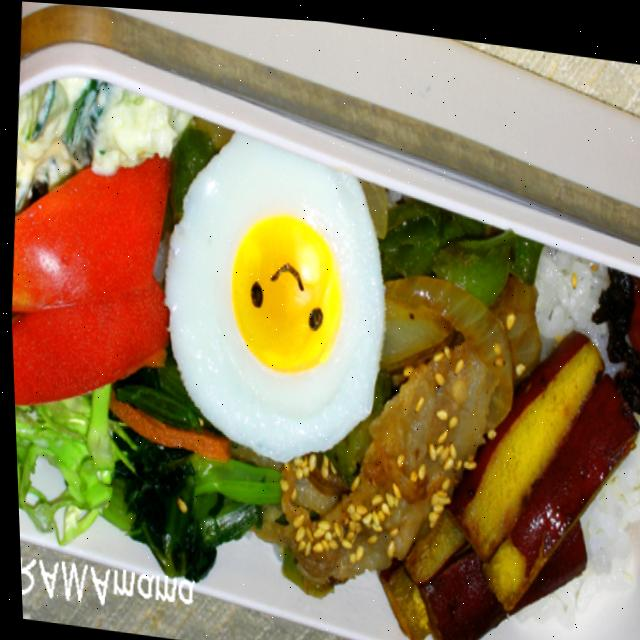鸡蛋料理: (158, 119, 388, 457)
